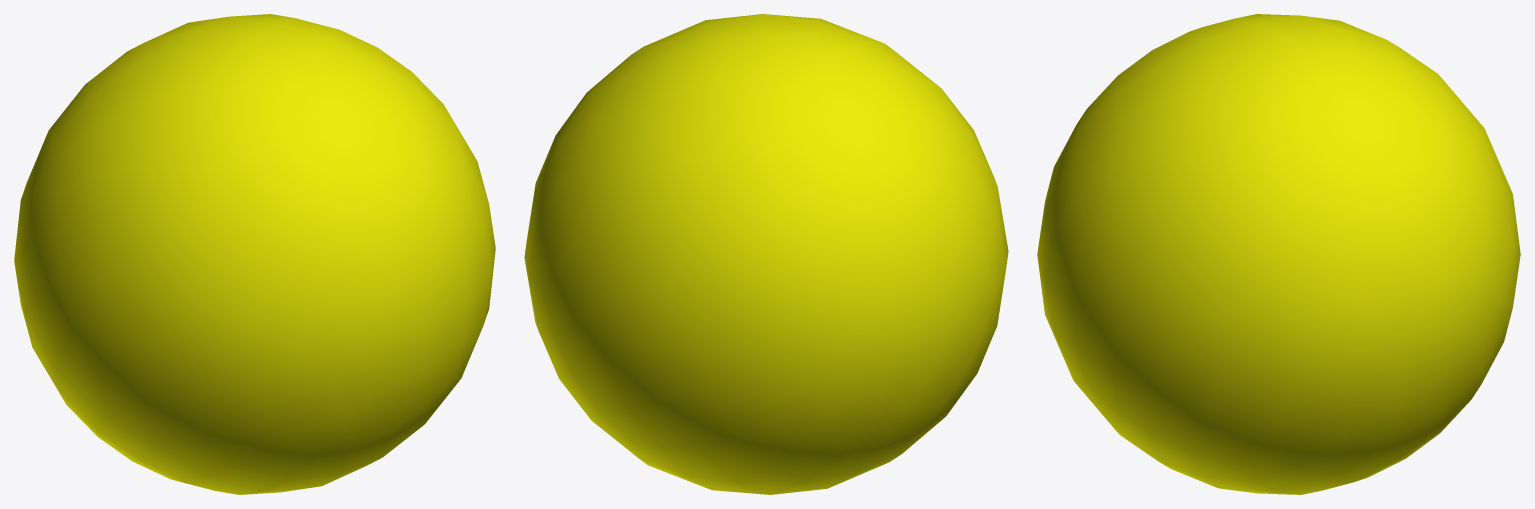
The picture shows the model from 3 angles, left to right: view 1: azimuth 30°, elevation 25°; view 2: azimuth 150°, elevation 25°; view 3: azimuth 270°, elevation 25°; orthographic projection.
Parts seen in each view (by area): view 1: Mesh_Sphere; view 2: Mesh_Sphere; view 3: Mesh_Sphere.
Part boxes in pixels (x1,y1,x2,y2): Mesh_Sphere: (14, 14, 495, 494); Mesh_Sphere: (524, 14, 1008, 494); Mesh_Sphere: (1037, 14, 1520, 494).
Size of the model in its own units: 0.8765 by 0.8801 by 0.8801.
